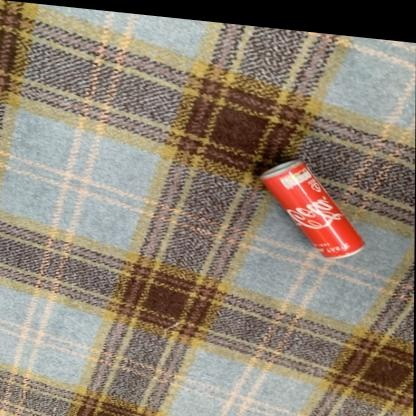trash: (260, 160, 364, 257)
